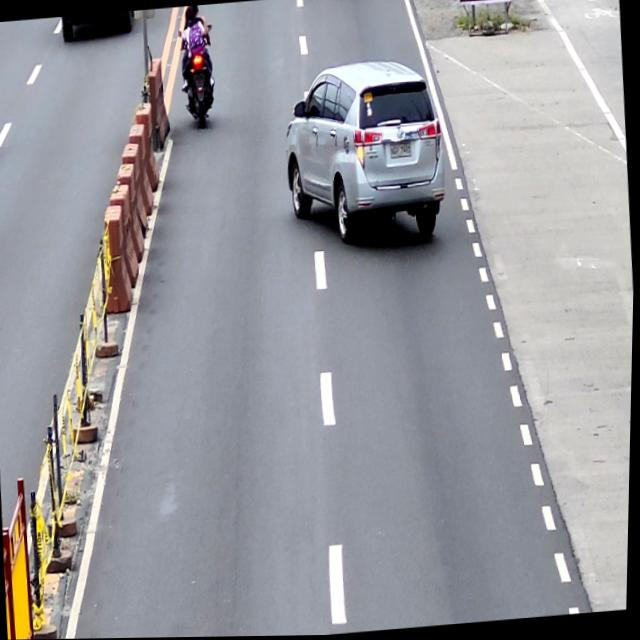Car: (278, 55, 453, 253)
License-Plate: (389, 143, 412, 162)
Motorcycle: (176, 26, 221, 132)
